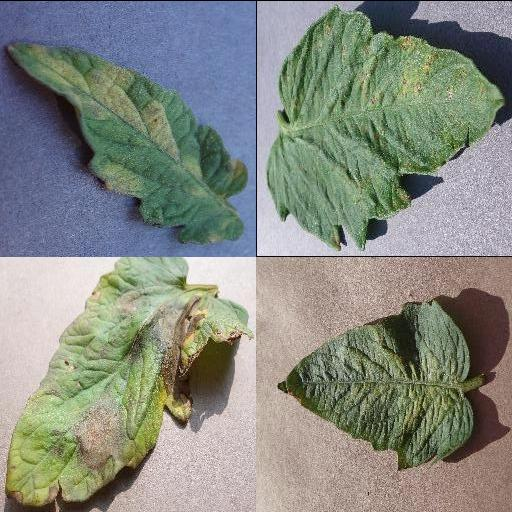Late Blight: (5, 257, 256, 506)
Leaf Mold: (5, 41, 245, 242)
Septoria: (266, 8, 504, 250)
Spider Mites: (276, 297, 474, 469)
